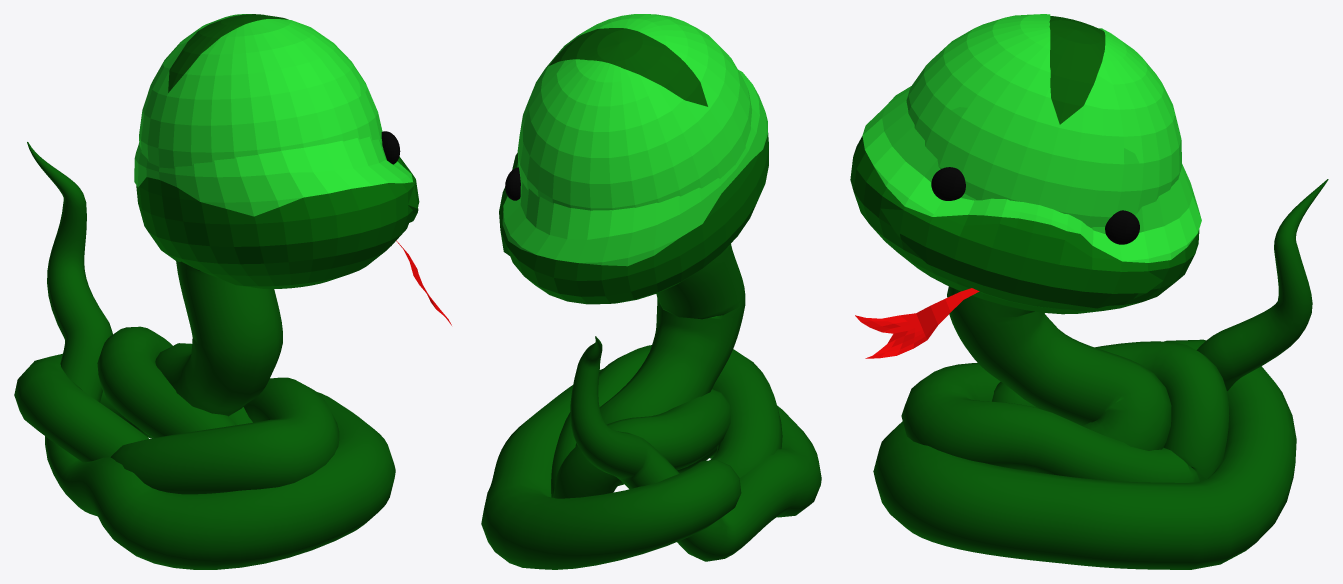
File: SnakeCentered.obj
3 views of the same model, side by side, from view 1: azimuth 30°, elevation 25°; view 2: azimuth 150°, elevation 25°; view 3: azimuth 270°, elevation 25° (orthographic). The views are drawn at different scales.
Parts seen in each view (by area): view 1: BezierCurve.002_BezierCurve.004, TeteBasMotif_Cone.020, TeteBasPenchee_Cone.019, TeteHautPenchee_Sphere.068; view 2: BezierCurve.002_BezierCurve.004, TeteBasMotif_Cone.020, TeteBasPenchee_Cone.019, TeteHautPenchee_Sphere.068, OeilG.004_Sphere.069; view 3: BezierCurve.002_BezierCurve.004, TeteBasMotif_Cone.020, TeteBasPenchee_Cone.019, TeteHautPenchee_Sphere.068, Plane, OeilG.004_Sphere.069.
Boxes of the visible parts, x1,y1,x2,y2 form: BezierCurve.002_BezierCurve.004: (14, 142, 395, 569); TeteBasMotif_Cone.020: (134, 14, 412, 216); TeteBasPenchee_Cone.019: (136, 156, 419, 288); TeteHautPenchee_Sphere.068: (168, 14, 288, 92); BezierCurve.002_BezierCurve.004: (481, 244, 821, 569); TeteBasMotif_Cone.020: (502, 14, 767, 266); TeteBasPenchee_Cone.019: (499, 133, 768, 304); TeteHautPenchee_Sphere.068: (549, 28, 707, 106); OeilG.004_Sphere.069: (505, 167, 520, 200); BezierCurve.002_BezierCurve.004: (873, 179, 1328, 569); TeteBasMotif_Cone.020: (862, 14, 1201, 262); TeteBasPenchee_Cone.019: (850, 136, 1199, 314); TeteHautPenchee_Sphere.068: (1049, 16, 1105, 124); Plane: (855, 288, 979, 358); OeilG.004_Sphere.069: (931, 167, 1139, 244).
Size of the model in its own units: 2.76 by 4.5 by 3.77.
